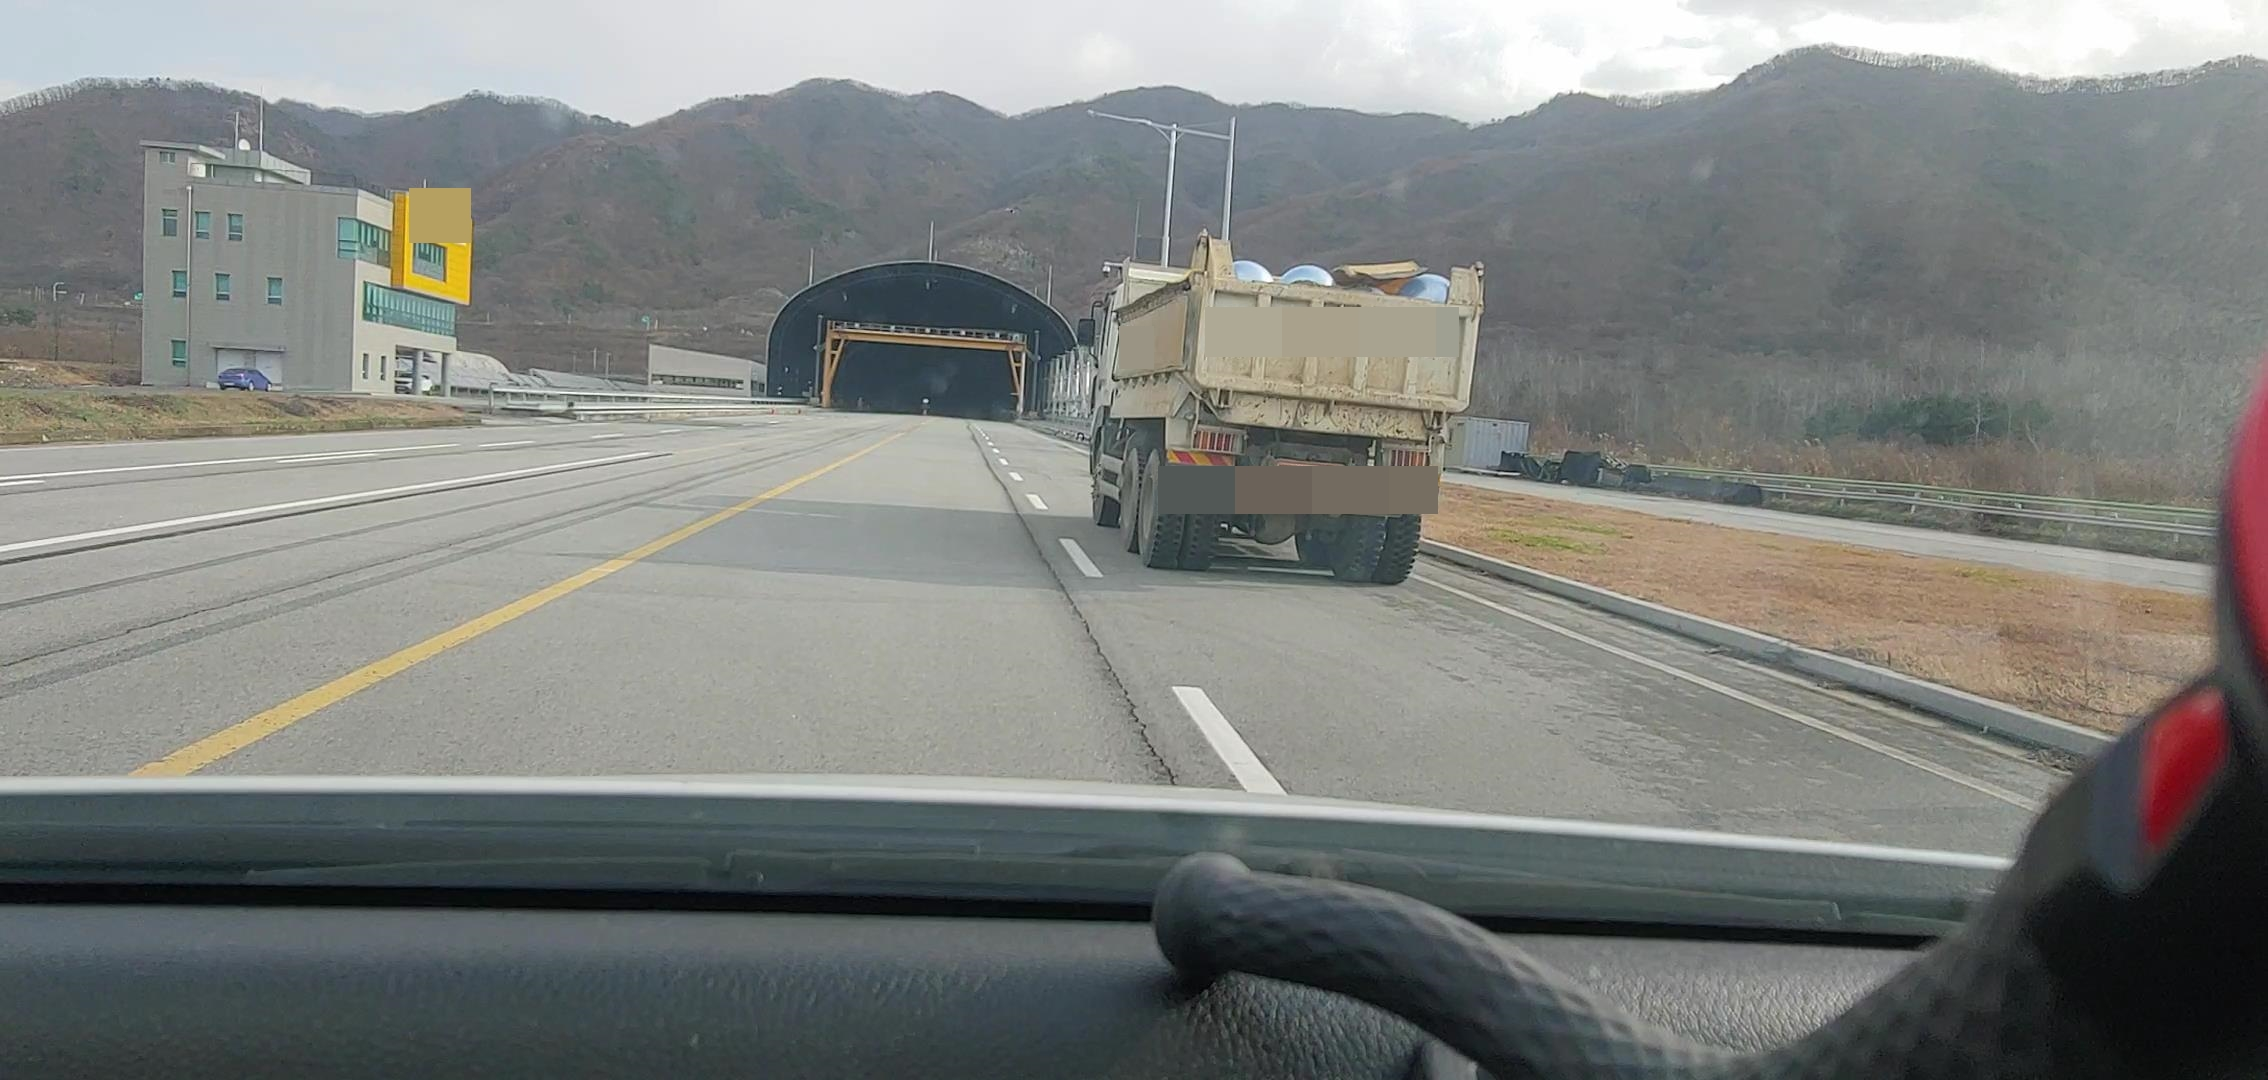불법차량: (1076, 227, 1487, 587)
